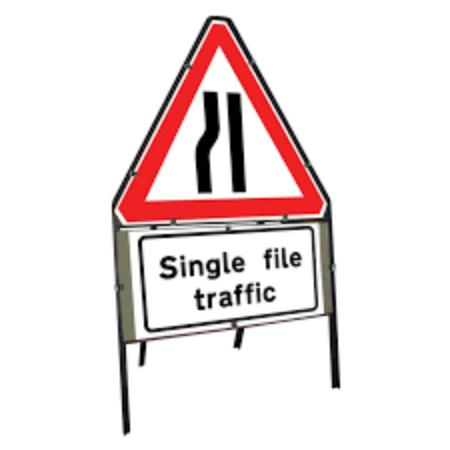narrow_road: (103, 12, 337, 224)
